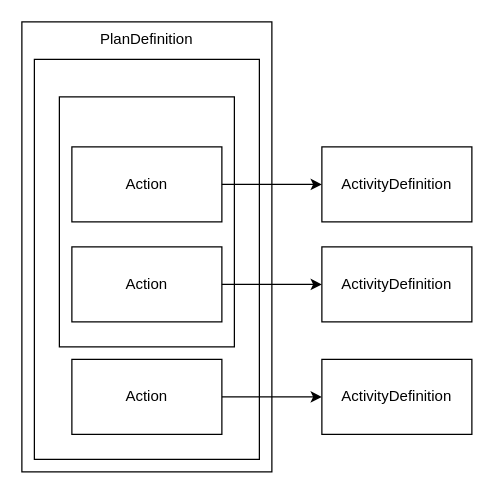
The diagram is 494 pixels wide and 494 high, and some of its shapes have lost their labels. Each missing label, with the box of its shape:
"And" logical group: (33, 58, 259, 459)
"Or" logical group: (58, 96, 234, 347)
